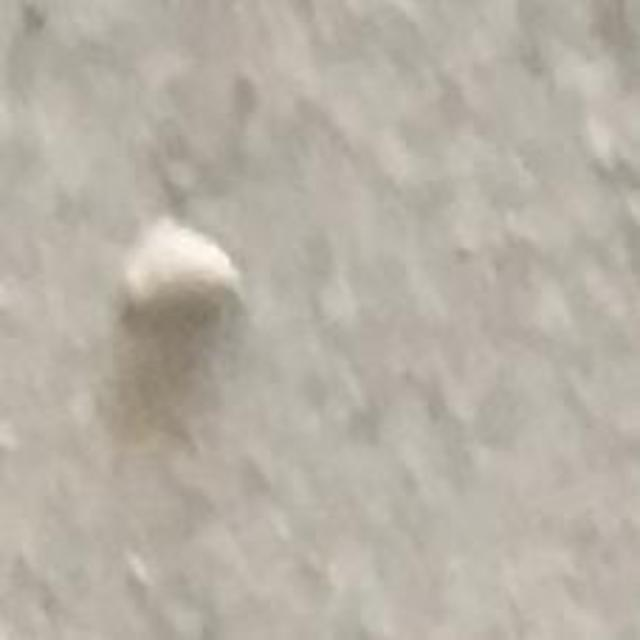peeling plaster: (122, 218, 242, 315)
